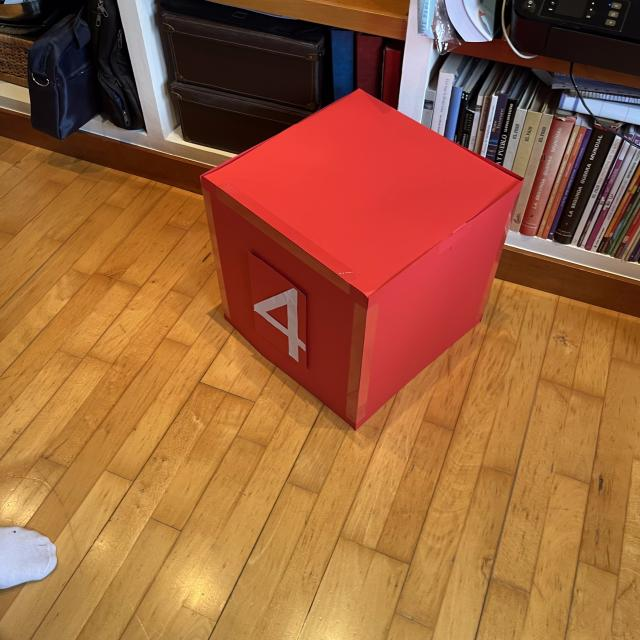box: (197, 86, 524, 430)
